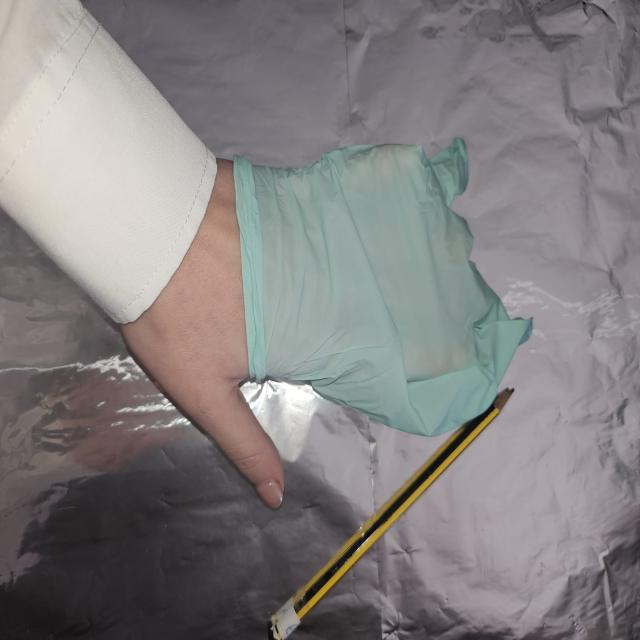glove_partial: (132, 136, 534, 509)
